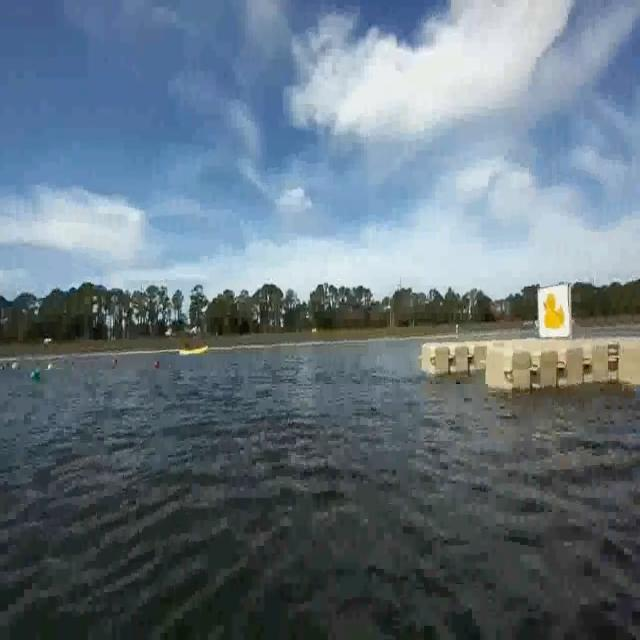green-buoy: (28, 366, 40, 383)
yellow-duck: (543, 290, 566, 330)
